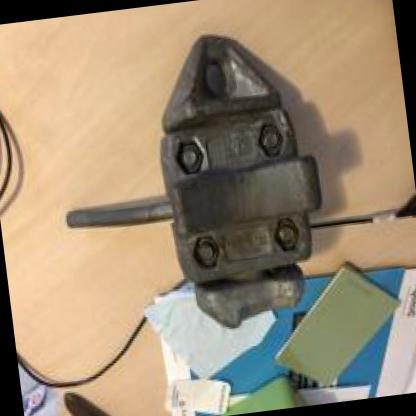Twistlock: (40, 15, 340, 361)
